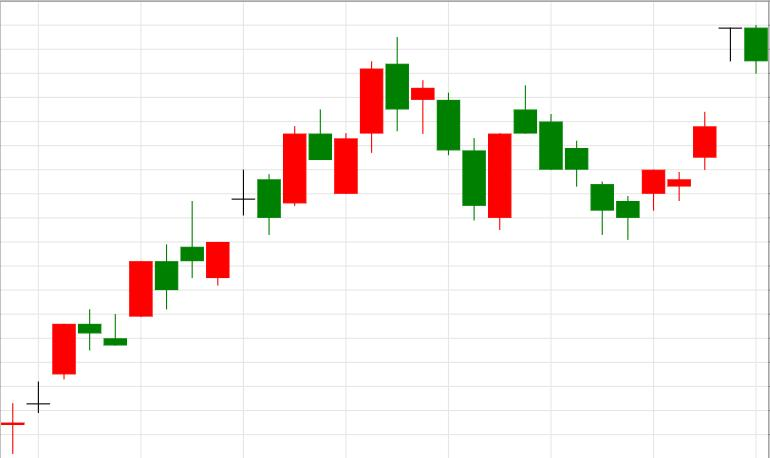bullish_engulfing_rise: (386, 38, 511, 231)
